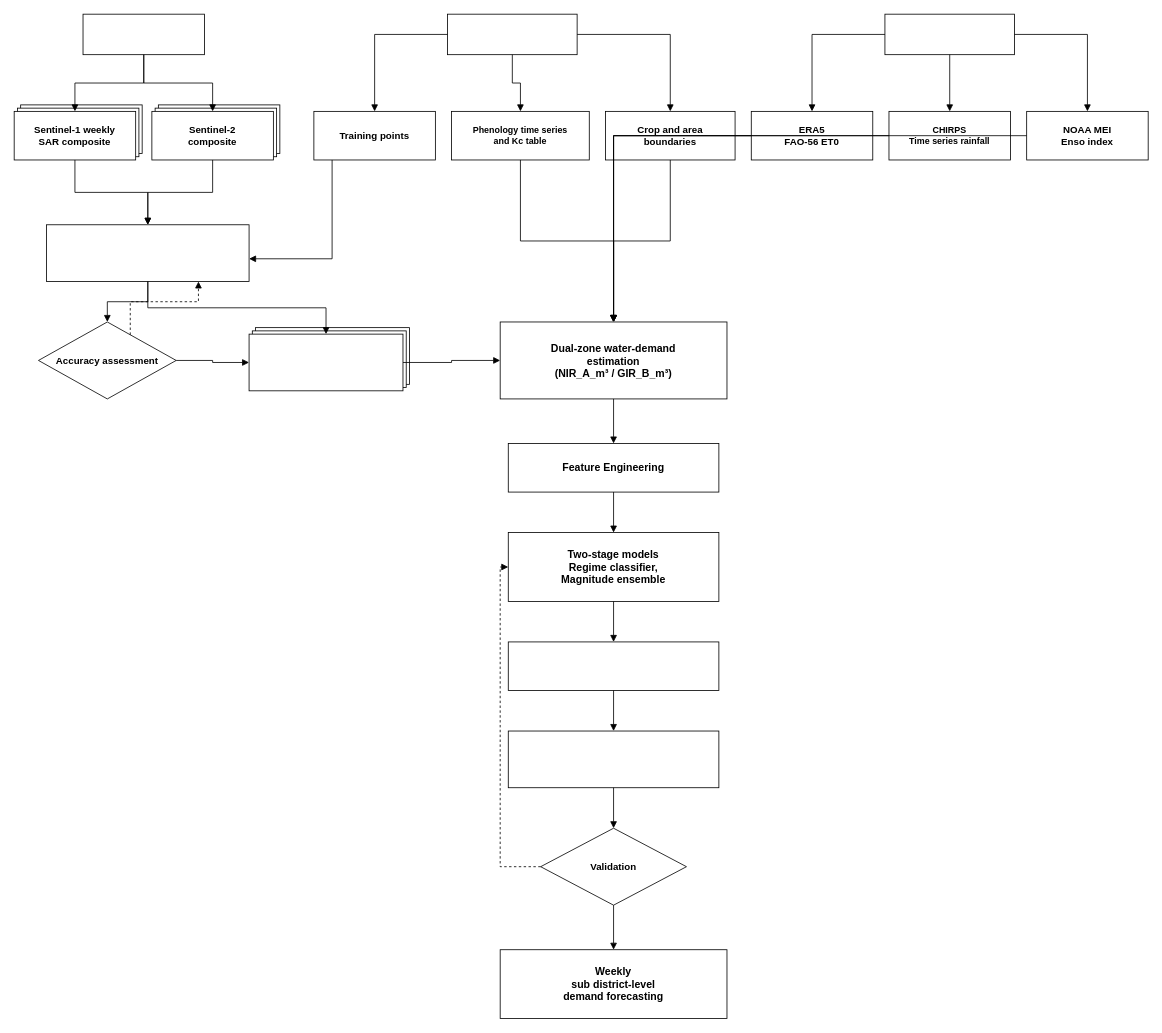
The diagram is 1162 pixels wide and 1033 high, and some of its shapes have lost their labels. The shapes that lost their labels are listed below. From the top down, each one's centre as x and y in pixels, then its label:
the point at 143,34: Satellite imagery
the point at 512,34: Spatial data
the point at 949,34: Hydro-climatic data
the point at 147,252: Multi-temporal crop classification
the point at 325,362: Crop-type maps
the point at 613,666: Soft combination
the point at 613,759: Mondrian conformal prediction
